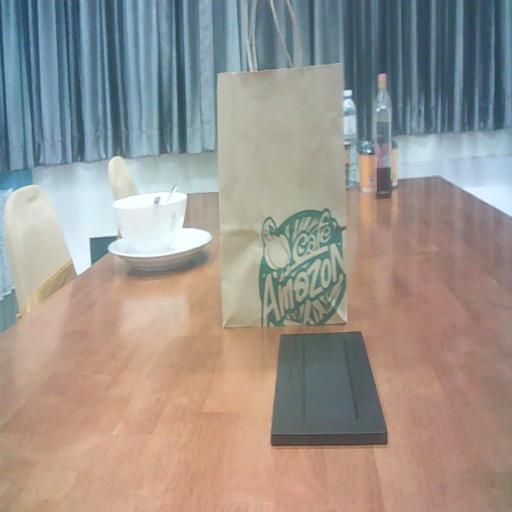bag: (219, 59, 349, 331)
